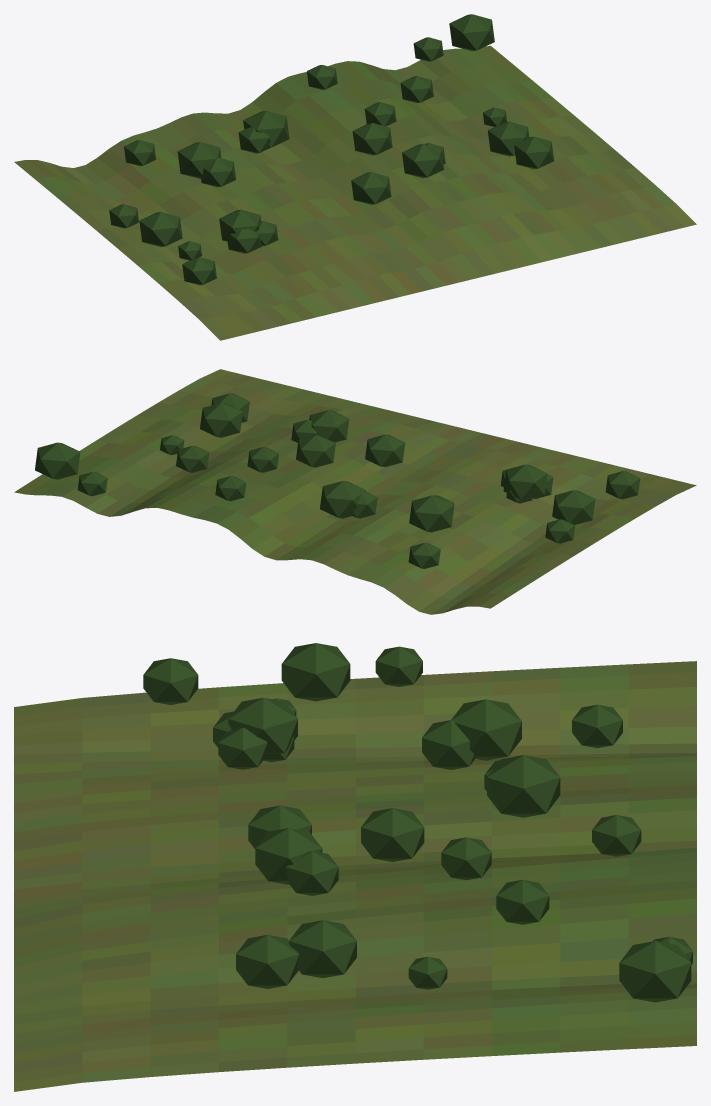
File: bg_field_ridge_2_idle.glb
3 views of the same model, one above another, from view 1: azimuth 30°, elevation 25°; view 2: azimuth 150°, elevation 25°; view 3: azimuth 270°, elevation 25° (orthographic). The views are drawn at different scales.
Parts seen in each view (by area): view 1: ridge.001; view 2: ridge.001; view 3: ridge.001.
Boxes of the visible parts, x1,y1,x2,y2 form: ridge.001: (14, 14, 696, 340); ridge.001: (14, 369, 696, 614); ridge.001: (14, 643, 696, 1091).
Size of the model in its own units: 40 by 6.1 by 30.
